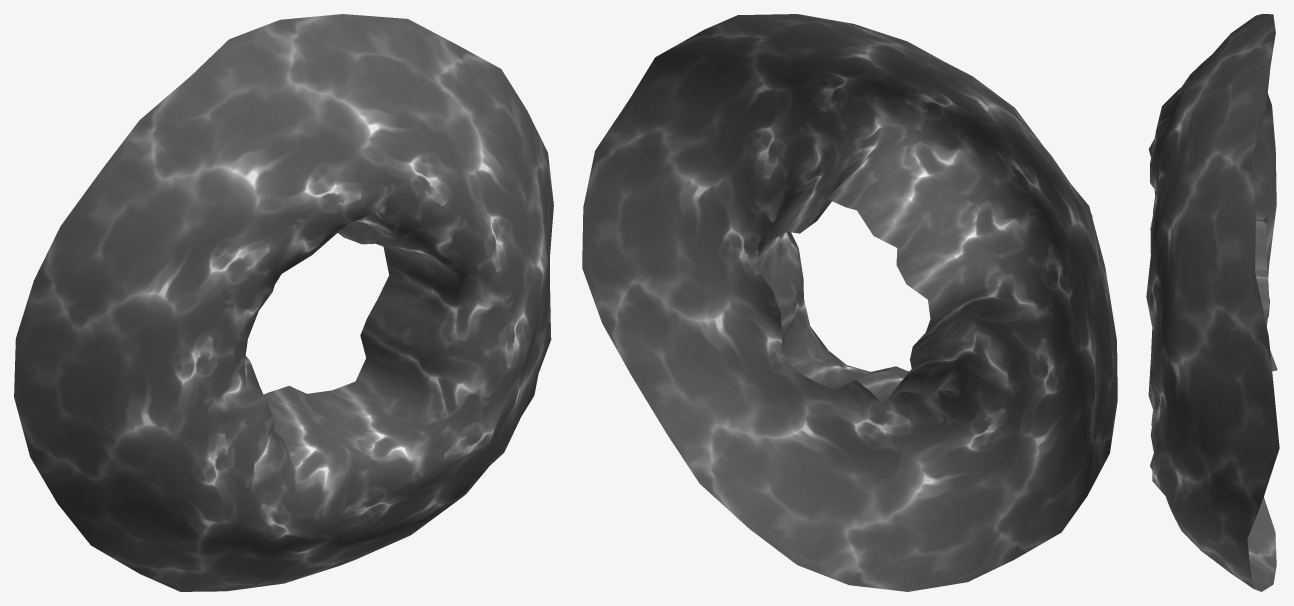
File: Cdong001.FBX
3 views of the same model, side by side, from view 1: azimuth 30°, elevation 25°; view 2: azimuth 150°, elevation 25°; view 3: azimuth 270°, elevation 25° (orthographic). The views are drawn at different scales.
Visible parts, largest first — view 1: Plane001; view 2: Plane001; view 3: Plane001.
Part boxes in pixels (x1,y1,x2,y2): Plane001: (14,14,553,591); Plane001: (582,14,1117,591); Plane001: (1146,14,1279,591).
Size of the model in its own units: 340 by 77.64 by 341.
